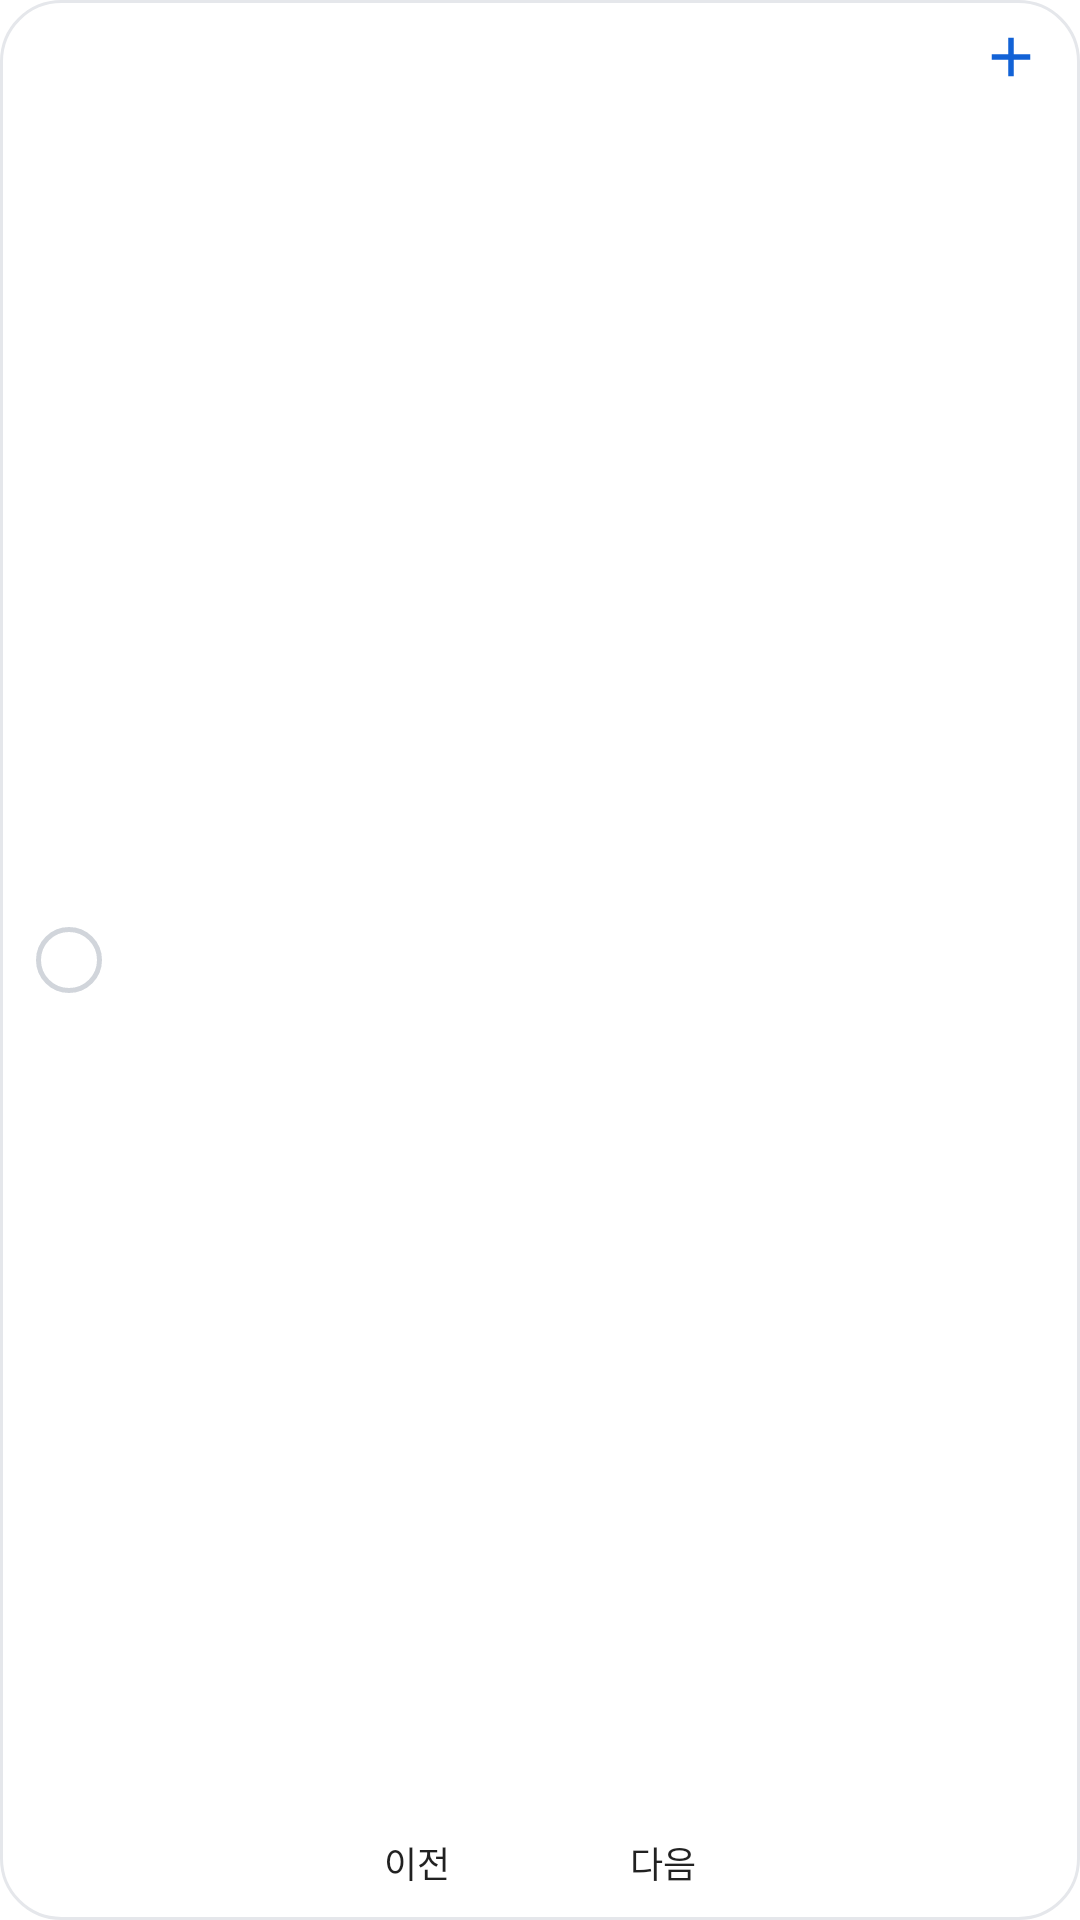

Where to tap for icons on this 1080 x 1920 app screen, as (x=x, y=y):
일정 등록: (x=1011, y=57)
일정 완료: (x=69, y=960)
